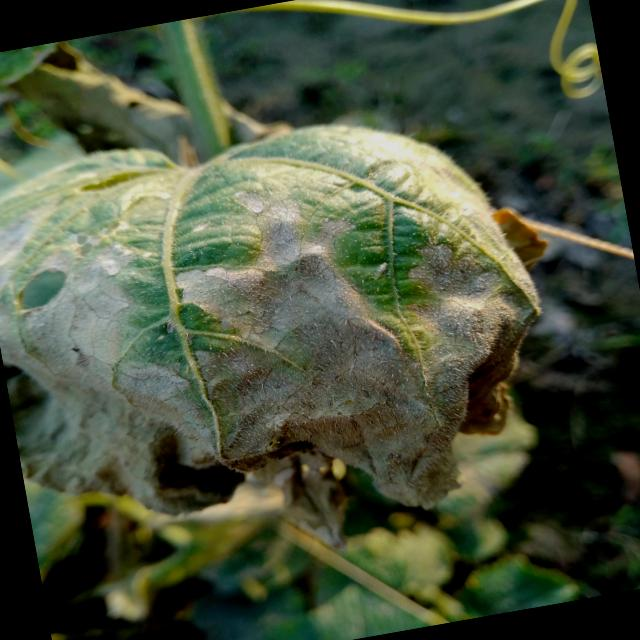cucumber_gummy: (0, 53, 593, 602)
